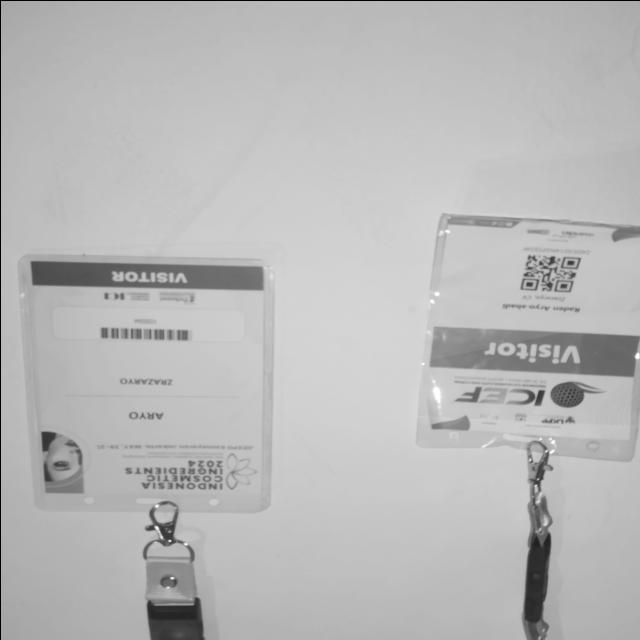ID_card: (18, 254, 275, 514), (415, 211, 640, 461)
